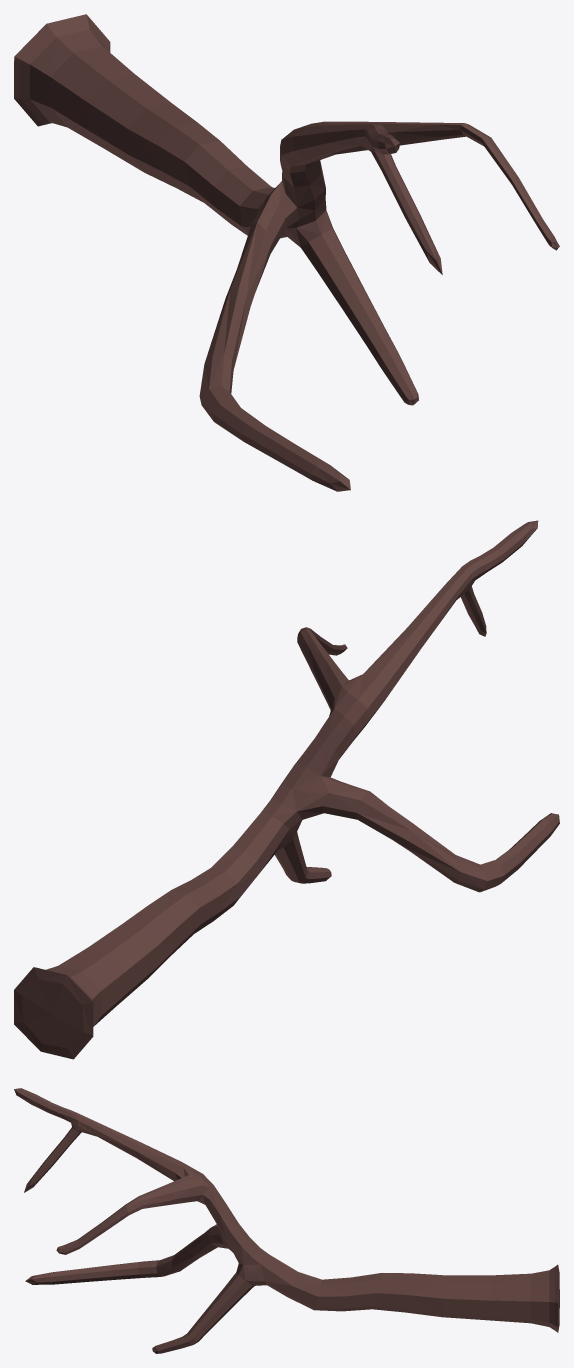
Rendered from tree-bare-deciduous-4-26-ft.obj.
3 views of the same model, one above another, from view 1: azimuth 30°, elevation 25°; view 2: azimuth 150°, elevation 25°; view 3: azimuth 270°, elevation 25° (orthographic). The views are drawn at different scales.
Parts seen in each view (by area): view 1: tree-bare-deciduous-4-26-ft; view 2: tree-bare-deciduous-4-26-ft; view 3: tree-bare-deciduous-4-26-ft.
Boxes of the visible parts, <box> form: tree-bare-deciduous-4-26-ft: <box>14,14,559,491</box>; tree-bare-deciduous-4-26-ft: <box>14,520,559,1059</box>; tree-bare-deciduous-4-26-ft: <box>14,1088,559,1353</box>.
Bounding box in the file's own units: 107 × 143 × 312.
